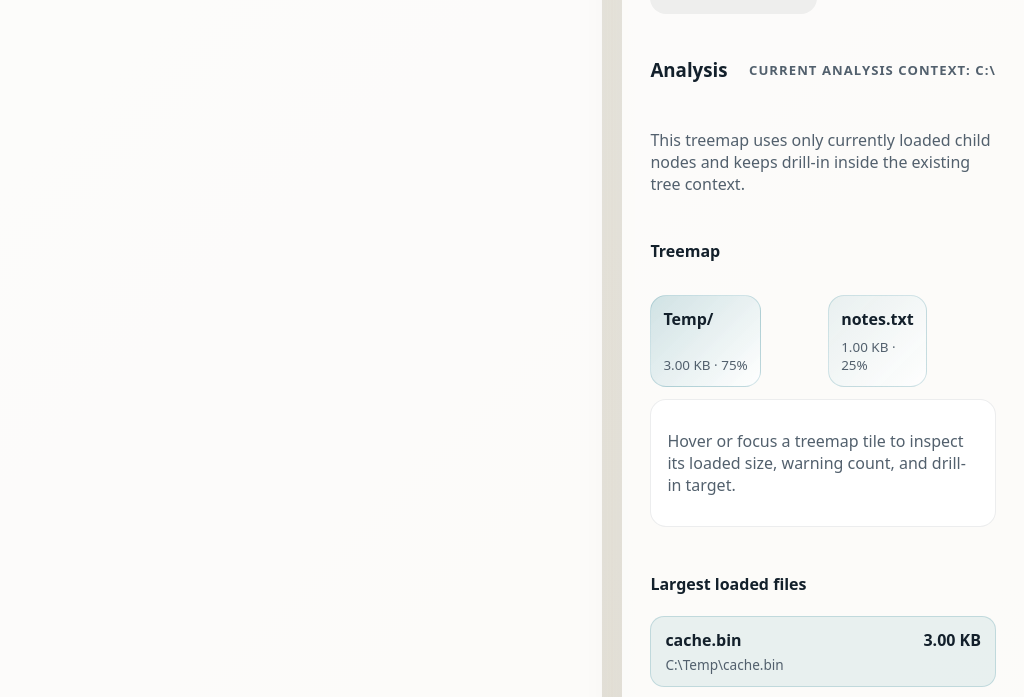
Scenario: ResultsPage › shows hover details for the focused treemap tile
(page scrolled)
Hover over the button with aria-label "Temp/ 3.00 KB 75%": (706, 341) [650,295,761,387]
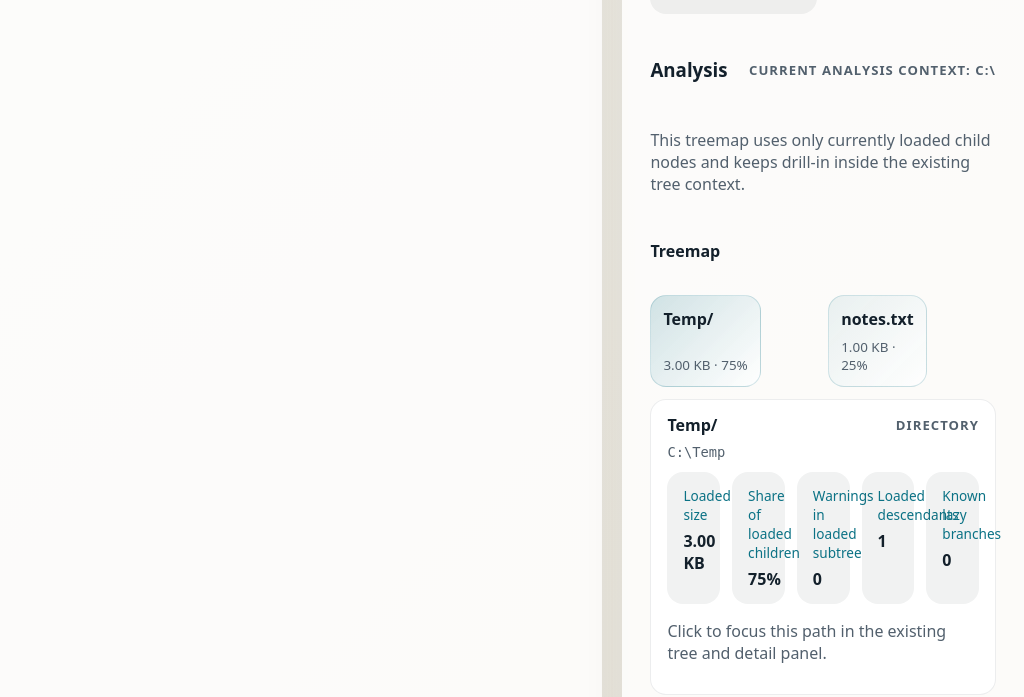
Check: the text "Share of loaded children" is shown, box [748,486,769,562]
Check: the text "Known lazy branches" is shown, box [942,486,963,543]
Check: the text "Click to focus this path in the existing tree and detail panel." is shown, box [667,620,979,664]
